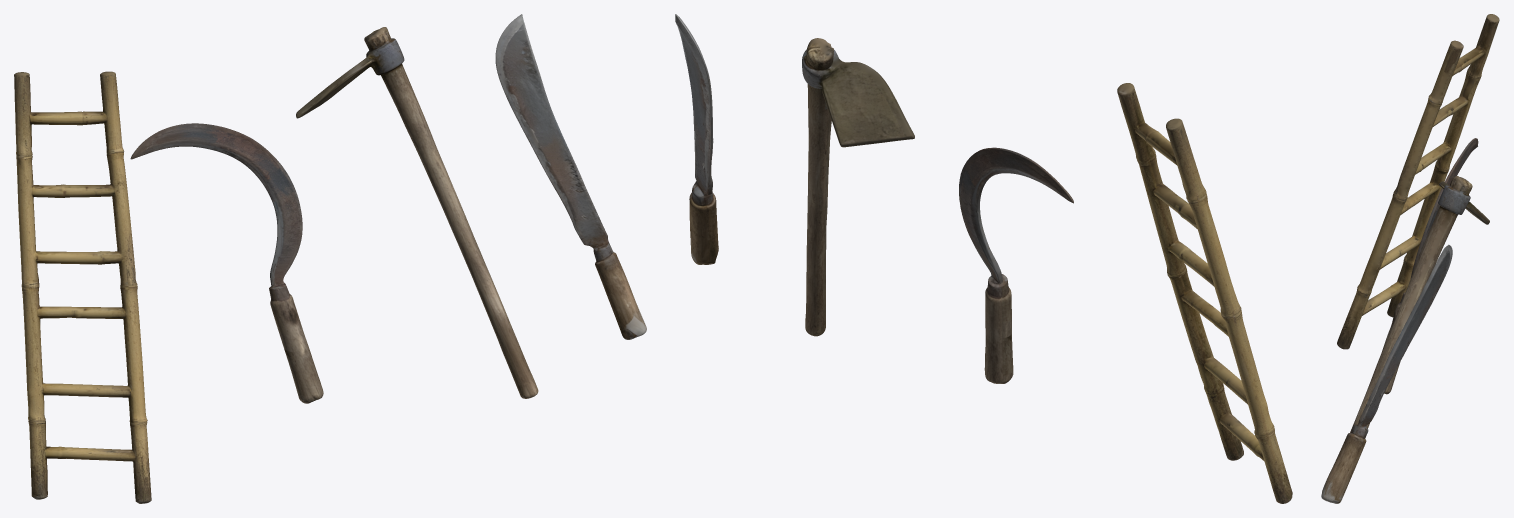
Rendered from SM_ToolSet_02.fbx.
3 views of the same model, side by side, from view 1: azimuth 30°, elevation 25°; view 2: azimuth 150°, elevation 25°; view 3: azimuth 270°, elevation 25° (orthographic). The views are drawn at different scales.
Visible parts, largest first — view 1: Mesh_0; view 2: Mesh_0; view 3: Mesh_0.
Part boxes in pixels (x1,y1,x2,y2): Mesh_0: (14,14,646,503); Mesh_0: (675,14,1292,503); Mesh_0: (1321,14,1499,503).
Size of the model in its own units: 102 by 64.06 by 32.43.
1 material, 1 textured.
